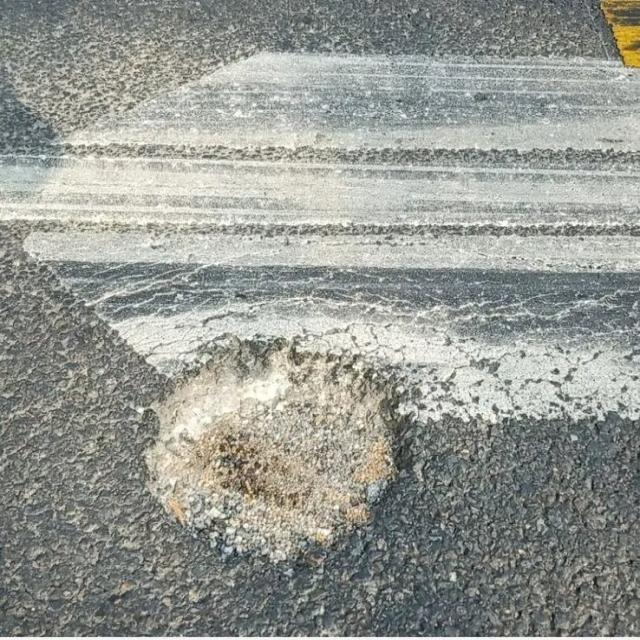Pothole: (134, 335, 410, 566)
